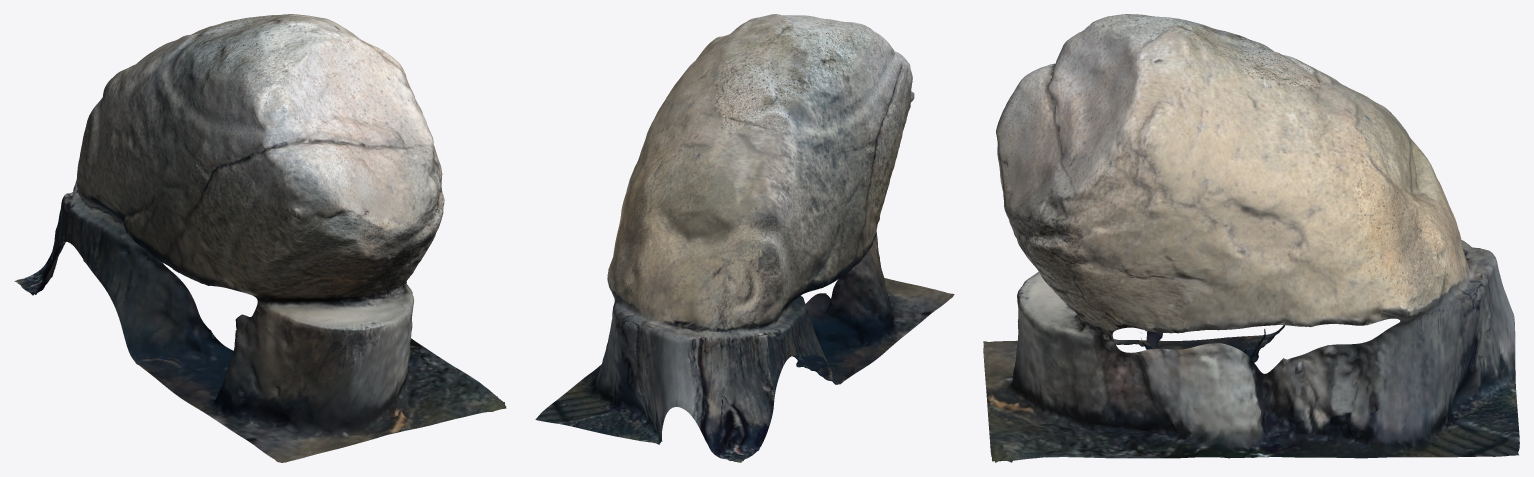
3 views of the same model, side by side, from view 1: azimuth 30°, elevation 25°; view 2: azimuth 150°, elevation 25°; view 3: azimuth 270°, elevation 25° (orthographic). The views are drawn at different scales.
Visible parts, largest first — view 1: Object; view 2: Object; view 3: Object.
Part boxes in pixels (bbox=[...]): Object: bbox=[14, 14, 506, 462]; Object: bbox=[535, 14, 954, 462]; Object: bbox=[983, 14, 1519, 462].
Size of the model in its own units: 0.6884 by 0.9677 by 1.26.
1 material, 1 textured.
